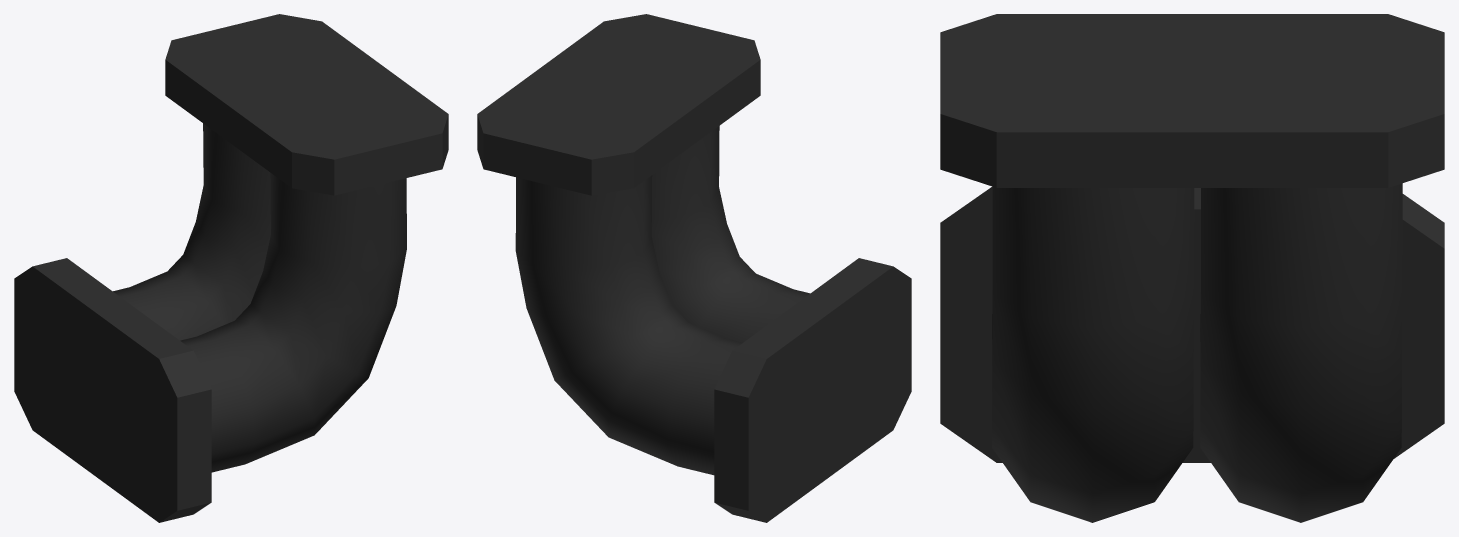
Rendered from Pfb_Soda_Pipe__3.fbx.
3 views of the same model, side by side, from view 1: azimuth 30°, elevation 25°; view 2: azimuth 150°, elevation 25°; view 3: azimuth 270°, elevation 25° (orthographic). The views are drawn at different scales.
Parts seen in each view (by area): view 1: MAT_Soda_Pipe; view 2: MAT_Soda_Pipe; view 3: MAT_Soda_Pipe.
Boxes of the visible parts, x1=… form: MAT_Soda_Pipe: x1=14, y1=14, x2=448, y2=522; MAT_Soda_Pipe: x1=477, y1=14, x2=911, y2=522; MAT_Soda_Pipe: x1=940, y1=14, x2=1444, y2=522.
Size of the model in its own units: 0.7322 by 0.8177 by 0.7141.
1 material, 1 textured.
